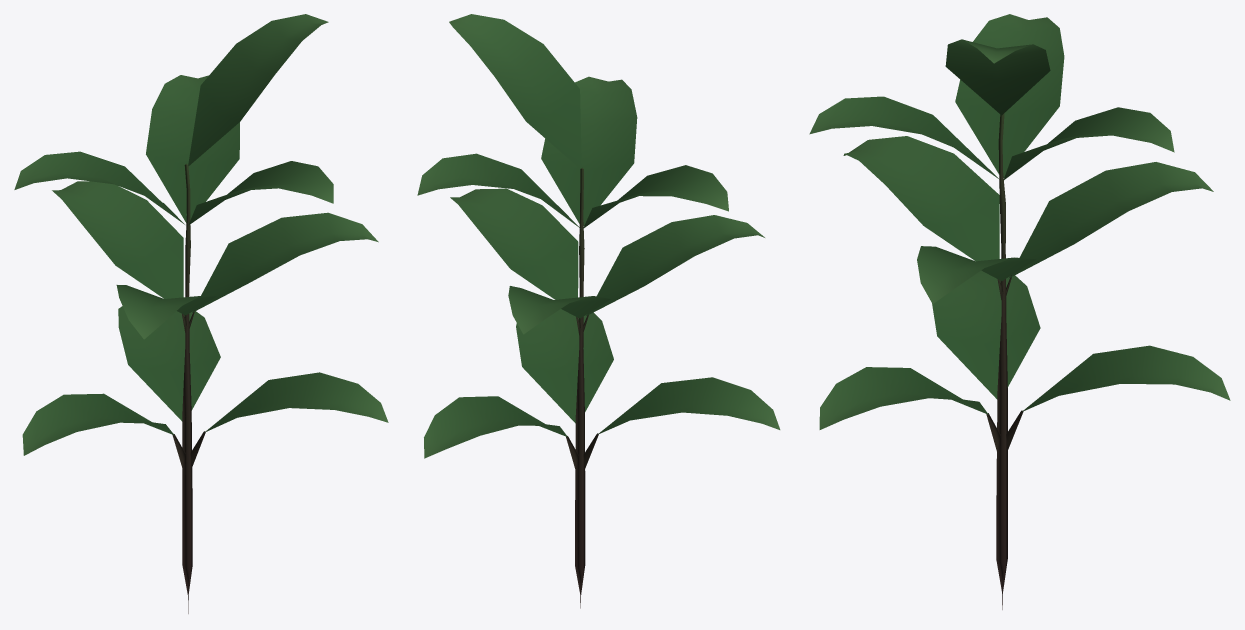
The model's file is plants-leafy-plants-rubber-plant_v5.glb.
3 renders of one model, left to right at view 1: azimuth 30°, elevation 25°; view 2: azimuth 150°, elevation 25°; view 3: azimuth 270°, elevation 25°, orthographic. The views are drawn at different scales.
Visible parts, largest first — view 1: Rubber Plant_v5; view 2: Rubber Plant_v5; view 3: Rubber Plant_v5.
Boxes of the visible parts, bbox=[...] form: Rubber Plant_v5: bbox=[14, 14, 388, 613]; Rubber Plant_v5: bbox=[417, 14, 780, 608]; Rubber Plant_v5: bbox=[809, 14, 1230, 609].
Bounding box in the file's own units: 0.5033 × 0.8 × 0.4823.
